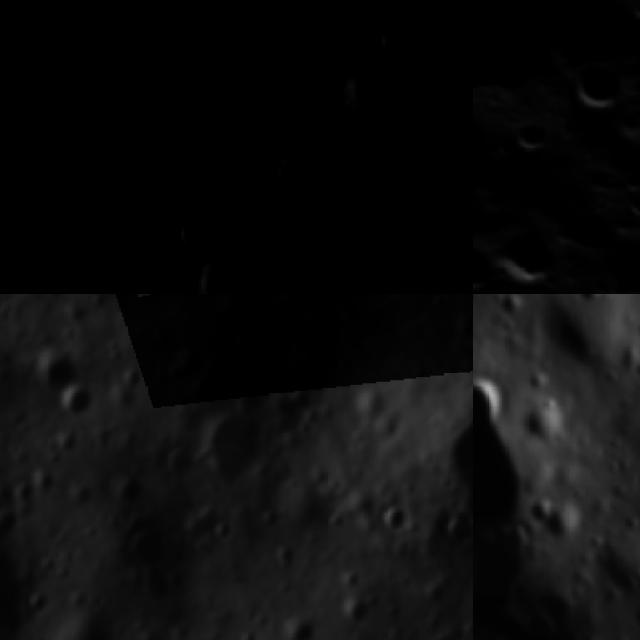crater: (175, 320, 267, 426), (552, 35, 640, 132), (482, 208, 574, 294), (548, 182, 636, 271), (200, 410, 269, 495), (330, 63, 401, 131), (501, 100, 564, 163), (180, 248, 264, 294), (114, 514, 171, 577), (512, 399, 570, 455), (40, 145, 92, 207), (522, 491, 579, 545), (473, 222, 512, 294), (99, 186, 146, 231), (54, 379, 102, 421), (162, 439, 200, 487), (237, 86, 280, 128), (372, 498, 417, 538), (170, 219, 218, 255), (339, 586, 376, 632), (437, 508, 473, 553), (107, 468, 149, 506), (277, 607, 320, 640), (473, 158, 494, 221), (0, 204, 21, 260), (218, 51, 250, 80), (274, 294, 311, 318), (473, 67, 486, 125), (623, 181, 640, 224), (73, 284, 124, 294)
